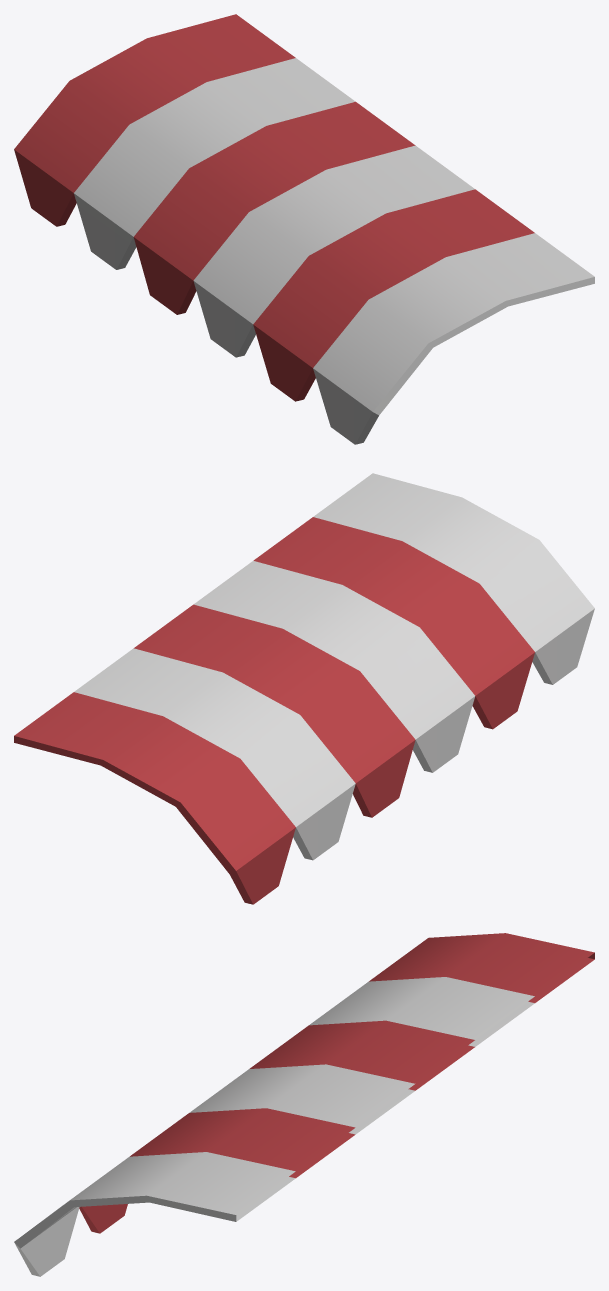
Rendered from Awning_3_J.glb.
3 renders of one model, top to bottom at view 1: azimuth 30°, elevation 25°; view 2: azimuth 150°, elevation 25°; view 3: azimuth 330°, elevation 25°, orthographic.
Visible parts, largest first — view 1: Awning_3_J; view 2: Awning_3_J; view 3: Awning_3_J.
Part boxes in pixels (x1,y1,x2,y2): Awning_3_J: (14, 14, 594, 444); Awning_3_J: (14, 473, 594, 904); Awning_3_J: (14, 933, 594, 1276).
Bounding box in the file's own units: 0.9994 × 0.5472 × 2.8.
Materials: 2 (2 with a texture image).
